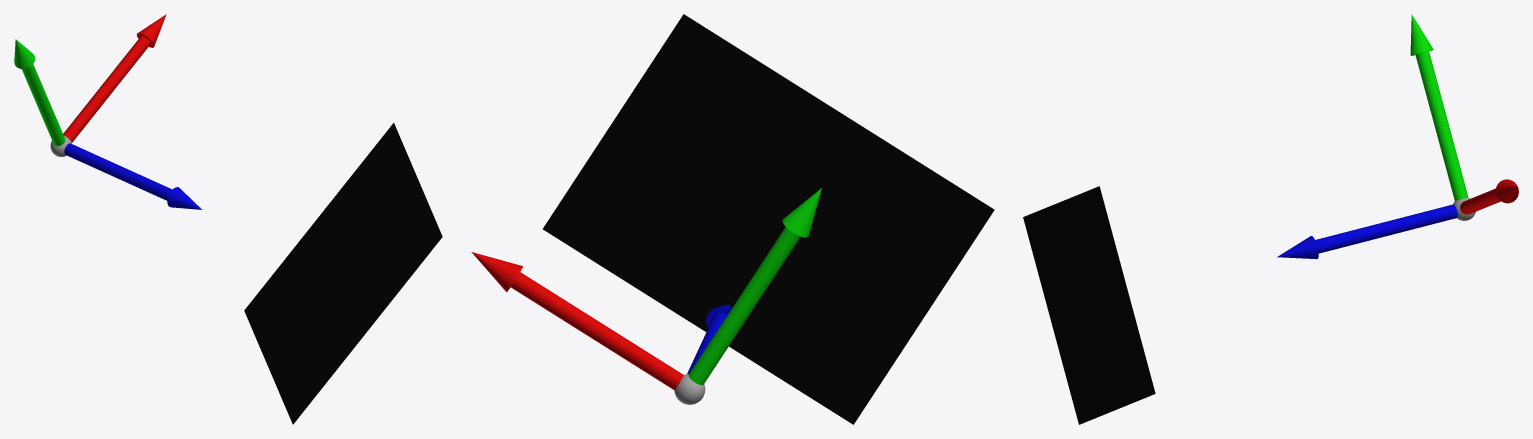
The picture shows the model from 3 angles, left to right: view 1: azimuth 30°, elevation 25°; view 2: azimuth 150°, elevation 25°; view 3: azimuth 270°, elevation 25°; orthographic projection. The views are drawn at different scales.
Size of the model in its own units: 0.2476 by 0.2334 by 0.3069.
